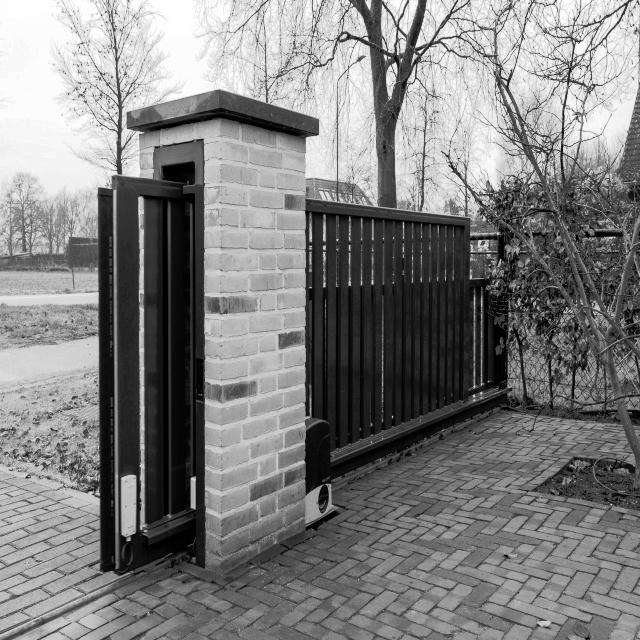fences: (320, 203, 497, 439)
